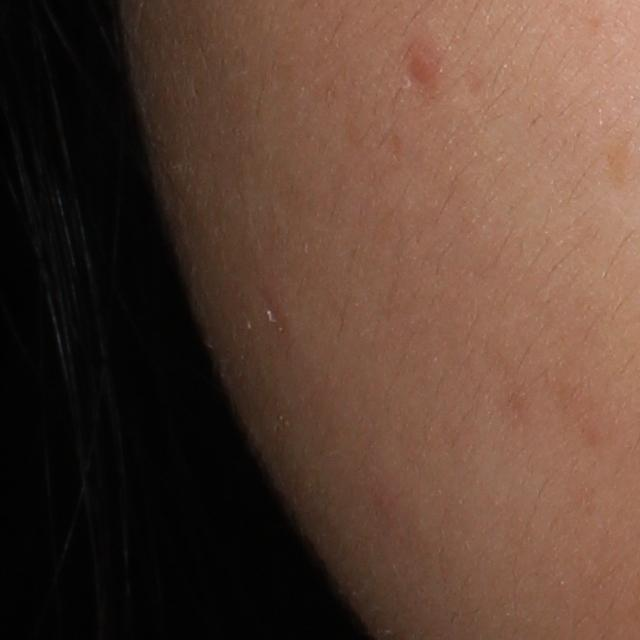papule: (405, 47, 438, 87)
